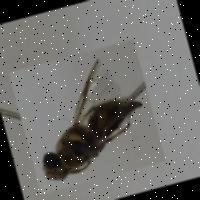Oriental-fruit-fly: (7, 38, 164, 193)
